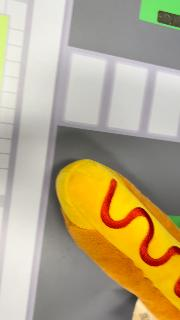hotdog: (55, 158, 179, 320)
